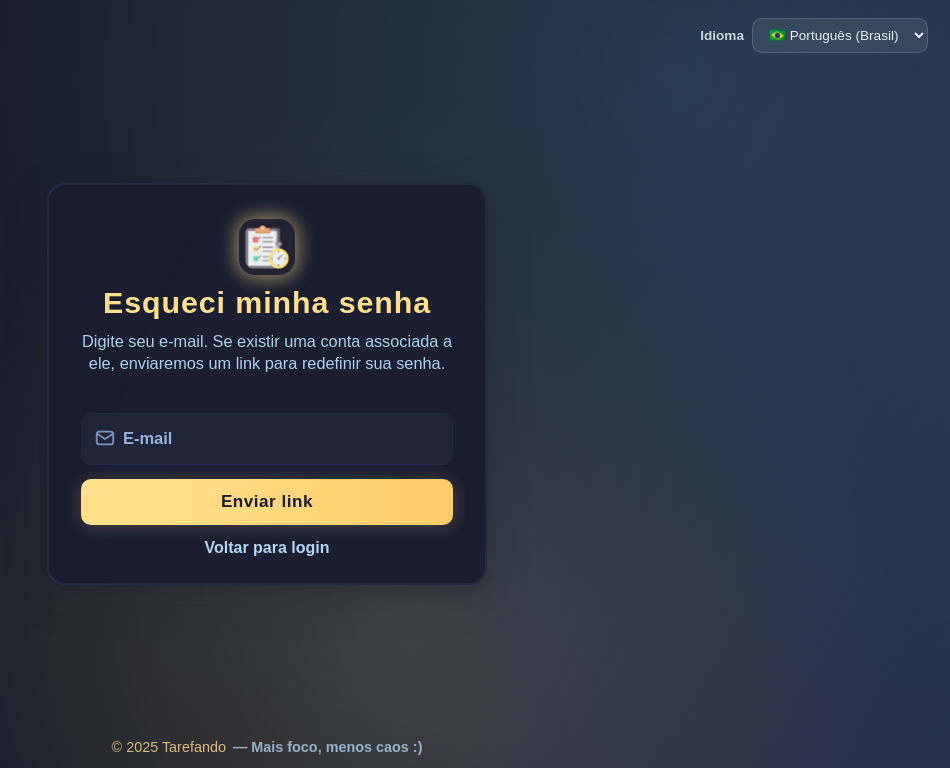
Test: Acesso › deve ocultar o botao quando a conta for do Google
Type "google@teste.com" into the field with test id "forgot-email" at (267, 439), box [81,413,453,465]
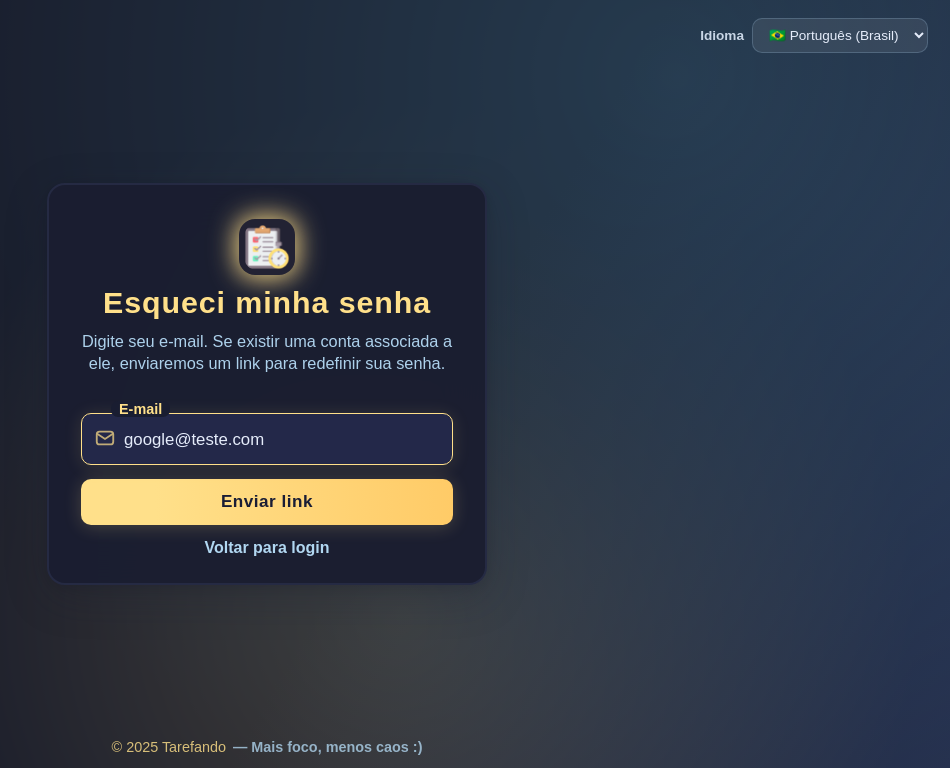
Click the button with test id "forgot-submit" at (267, 502), box [81,479,453,525]
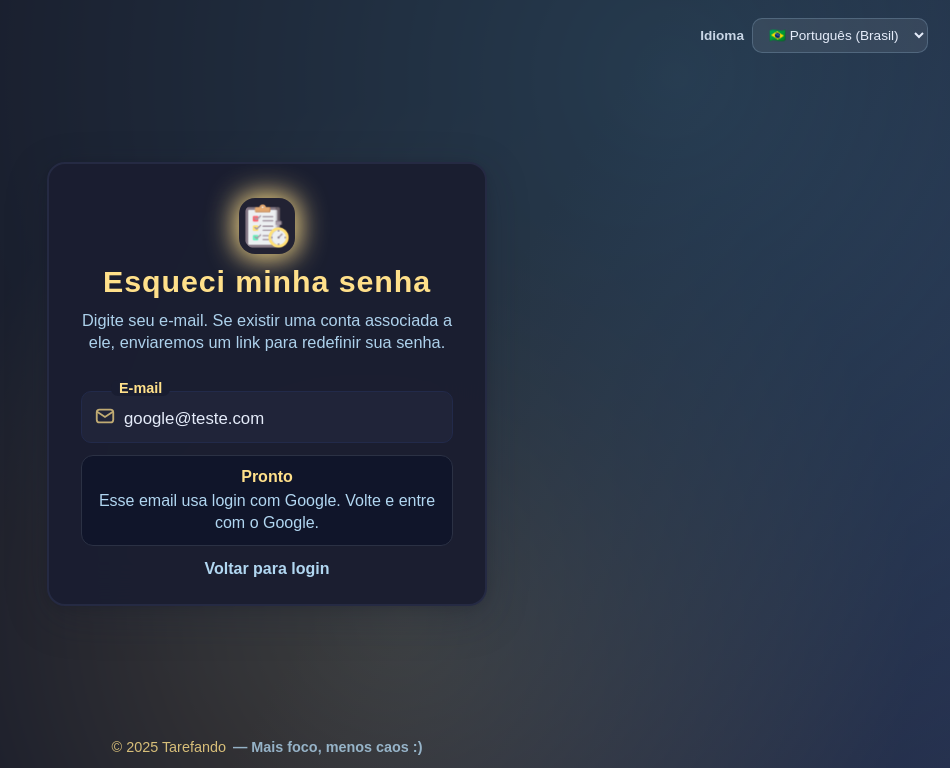
Expected: the button with test id "forgot-submit" is gone
Expected: the text with test id "forgot-info" shows "Google", [99,492,435,531]
